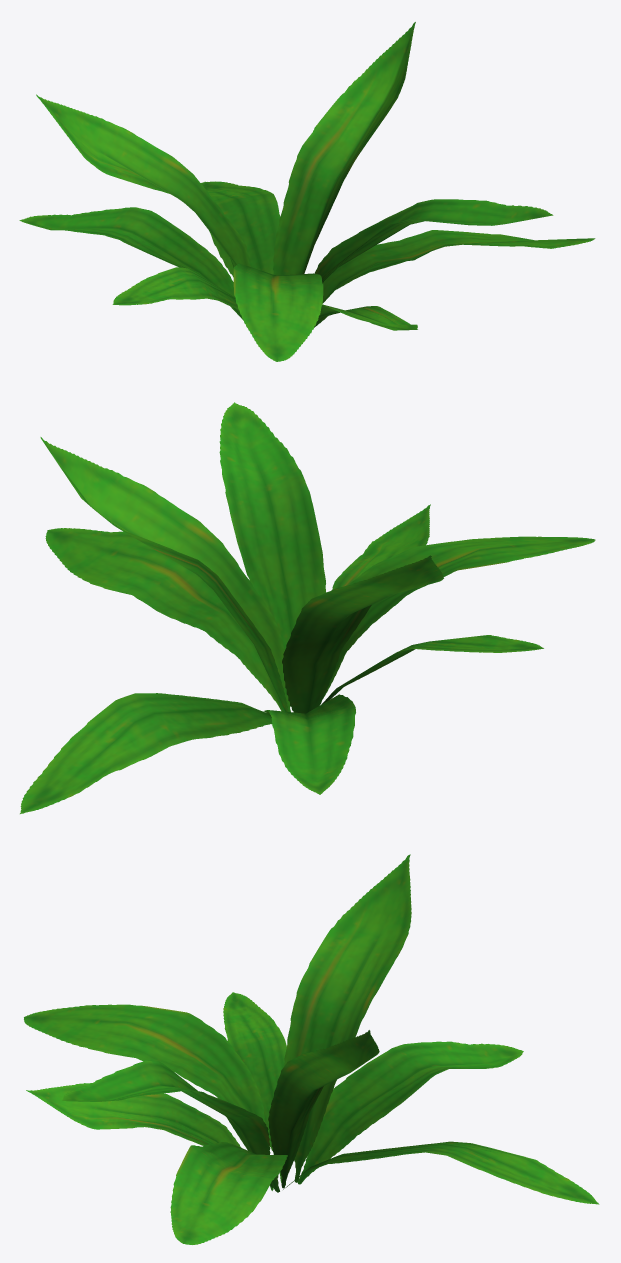
File: berry-6.glb
3 renders of one model, top to bottom at view 1: azimuth 30°, elevation 25°; view 2: azimuth 150°, elevation 25°; view 3: azimuth 270°, elevation 25°, orthographic. The views are drawn at different scales.
Visible parts, largest first — view 1: Plant_var_1_Berry_plant_0; view 2: Plant_var_1_Berry_plant_0; view 3: Plant_var_1_Berry_plant_0.
Boxes of the visible parts, bbox=[...] form: Plant_var_1_Berry_plant_0: bbox=[19, 22, 595, 361]; Plant_var_1_Berry_plant_0: bbox=[20, 402, 595, 813]; Plant_var_1_Berry_plant_0: bbox=[24, 854, 599, 1244].
Size of the model in its own units: 0.9442 by 0.5007 by 1.02.
1 material, 1 textured.
